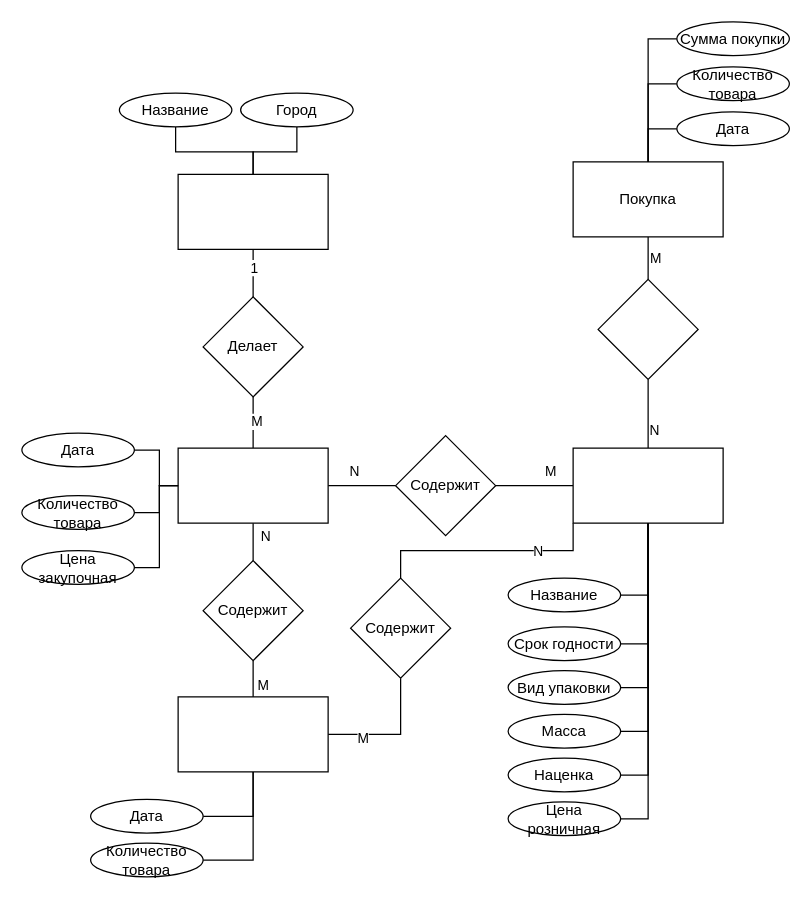
Image size: 811x900. Some labels were removed from this diagram. The centre of each missing label's shape, as x and y in pixels:
"Cодержит" belongs at (x=647, y=328).
"Поставка" belongs at (x=252, y=485).
"Поставщик" belongs at (x=252, y=211).
"Списание товара" belongs at (x=252, y=734).
"Товар" belongs at (x=647, y=485).
